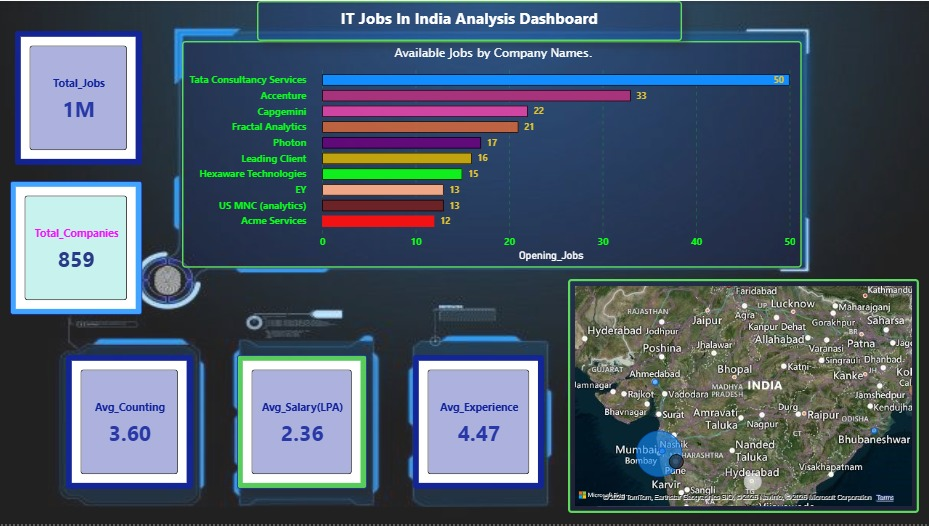

The page's visual inventory and layout, read from the dashboard file:
{"tool":"powerbi","page":{"name":"Page 1","canvas":[1280,720],"ordinal":0},"visuals":[{"type":"cardVisual","fields":{"Data":["Sum(indian_tech_jobs_2026.job_id)"]},"box":[22,41.3,174.8,184.4],"z":0},{"type":"cardVisual","fields":{"Data":["Count(indian_tech_jobs_2026.company_name)"]},"box":[15.1,247.7,181.7,184.4],"z":1000},{"type":"cardVisual","fields":{"Data":["Avg(indian_tech_jobs_2026.company_rating)"]},"box":[92.2,487.2,174.8,184.4],"z":2000},{"type":"cardVisual","fields":{"Data":["Avg(indian_tech_jobs_2026.salary_midpoint_lpa)"]},"box":[327.6,487.2,178.9,184.4],"z":3000},{"type":"cardVisual","fields":{"Data":["Avg(indian_tech_jobs_2026.experience_min_yrs)"]},"box":[569.8,487.2,180.3,184.4],"z":4000},{"type":"clusteredBarChart","title":"Available Jobs by Company Names.","fields":{"Category":["indian_tech_jobs_2026.company_name"],"Y":["Count(indian_tech_jobs_2026.job_id)"]},"box":[252,54.7,853.3,312],"z":5000},{"type":"map","fields":{"Category":["indian_tech_jobs_2026.primary_city"],"Size":["CountNonNull(indian_tech_jobs_2026.job_id)"]},"box":[783.1,382.6,483.1,322.1],"z":6000},{"type":"textbox","box":[355.1,0,584.9,55.1],"z":7000}]}

Visuals, with their boxes in screenshot pixels (x1, y1, x2, y2), scaled from the page's 1280x720 canvas onto the 929x526 screenshot:
cardVisual - Sum(indian_tech_jobs_2026.job_id): 16, 30, 143, 165
cardVisual - Count(indian_tech_jobs_2026.company_name): 11, 181, 143, 316
cardVisual - Avg(indian_tech_jobs_2026.company_rating): 67, 356, 194, 491
cardVisual - Avg(indian_tech_jobs_2026.salary_midpoint_lpa): 238, 356, 368, 491
cardVisual - Avg(indian_tech_jobs_2026.experience_min_yrs): 414, 356, 544, 491
"Available Jobs by Company Names." clusteredBarChart: 183, 40, 802, 268
map - indian_tech_jobs_2026.primary_city x CountNonNull(indian_tech_jobs_2026.job_id): 568, 280, 919, 515
textbox: 258, 0, 682, 40
